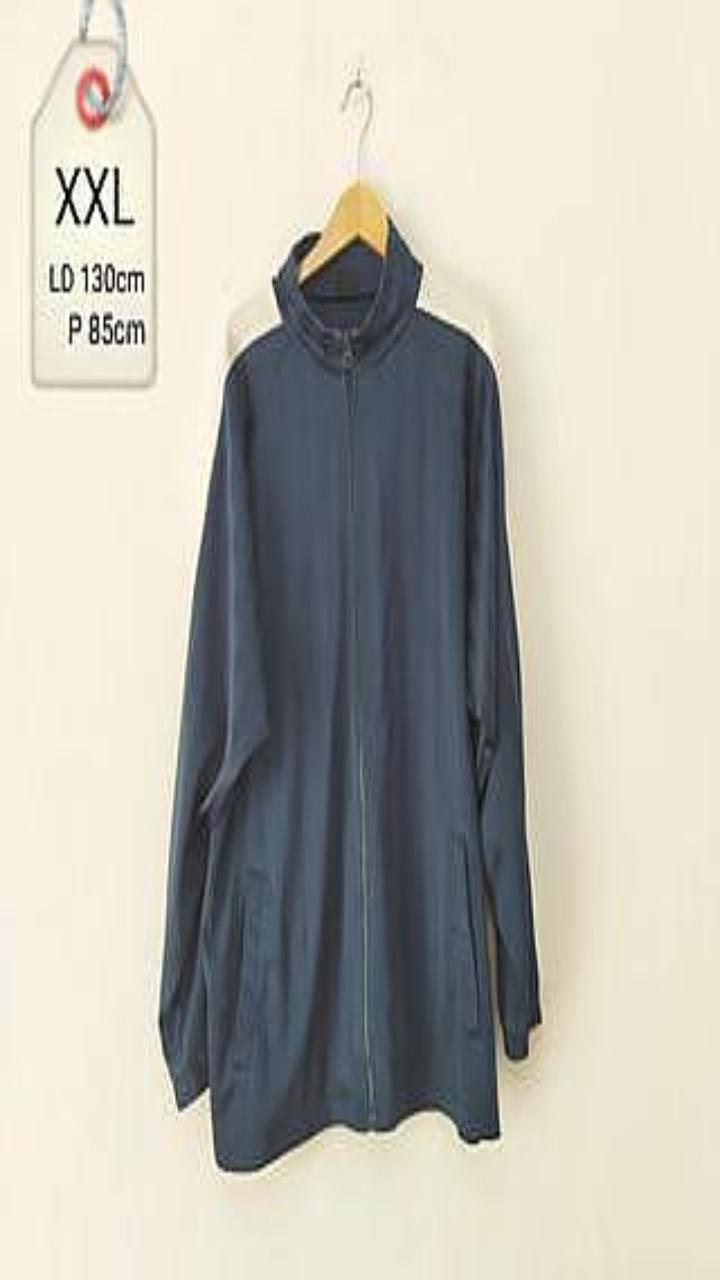Sports_Jacket: (159, 217, 540, 1170)
